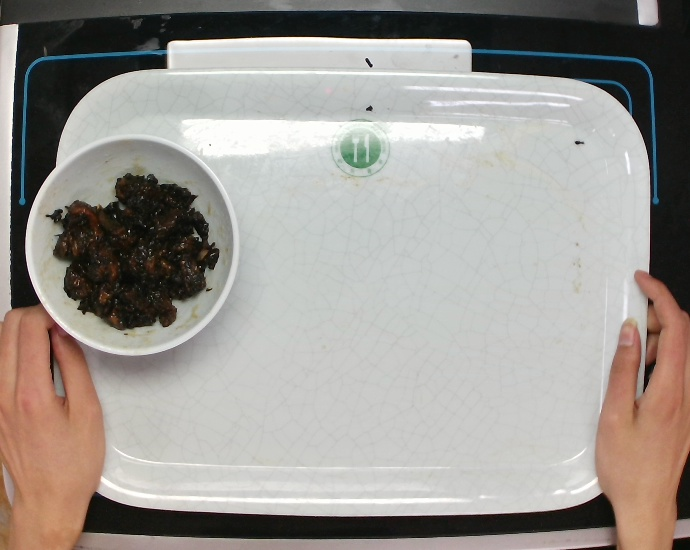JYsf-Fan_Wan: (21, 131, 243, 361)
